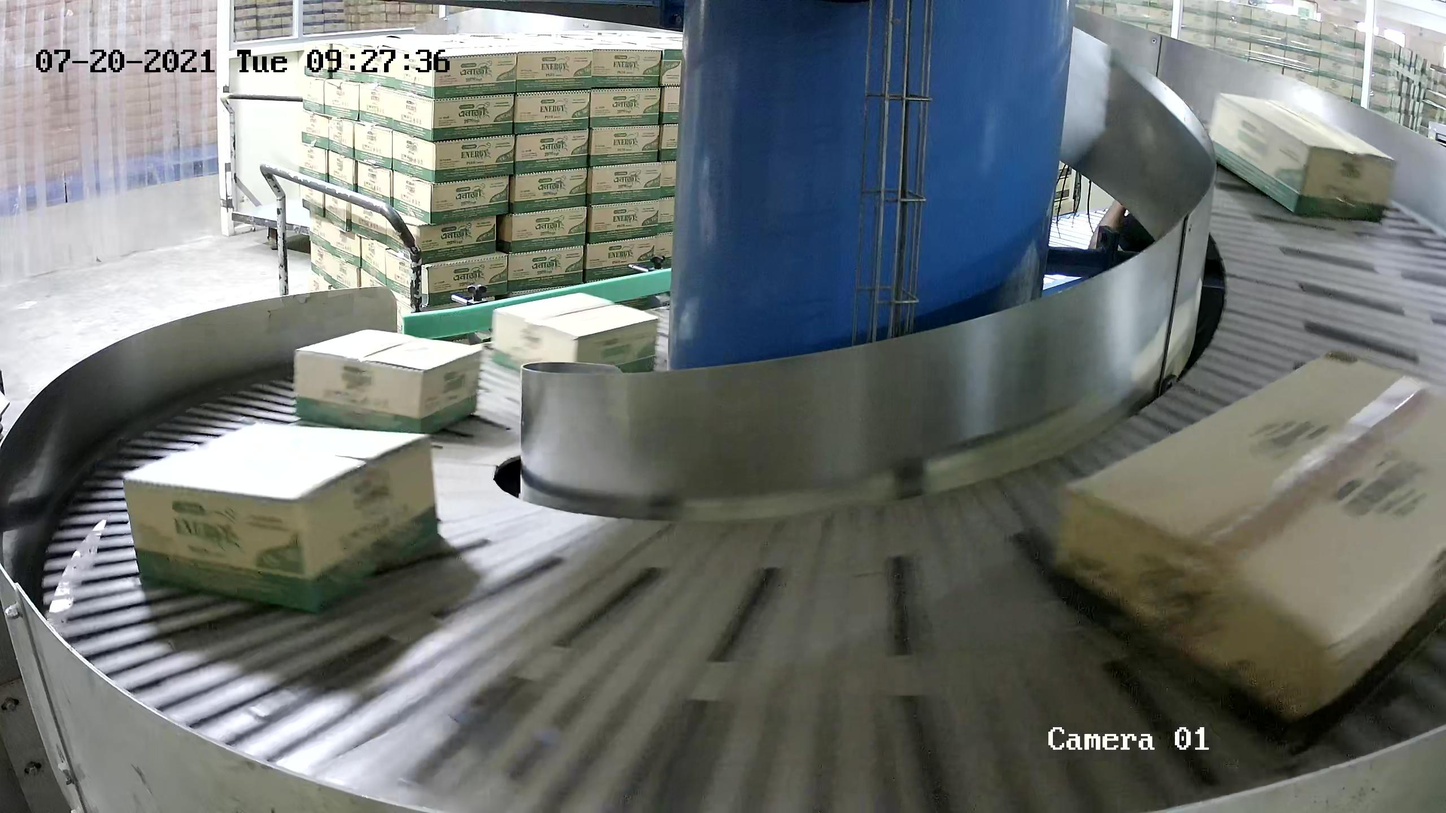Box: (1044, 350, 1446, 759), (119, 420, 446, 613), (1206, 87, 1398, 225), (292, 327, 485, 435), (490, 289, 660, 375)
